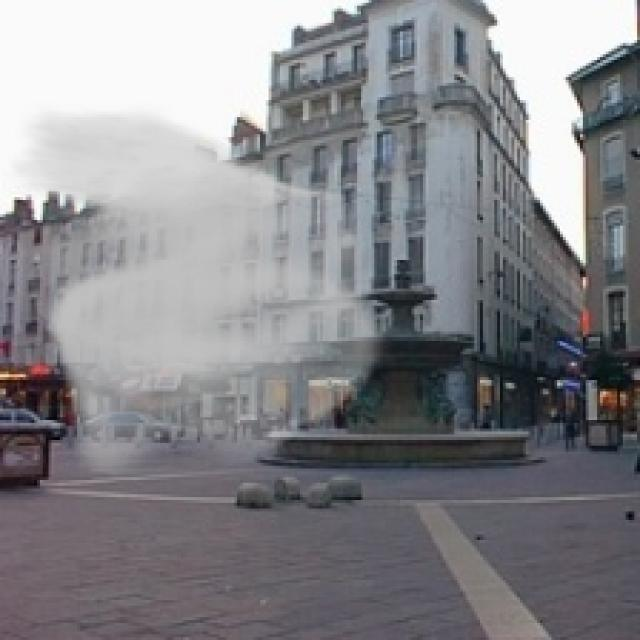smoke: (3, 103, 394, 474)
